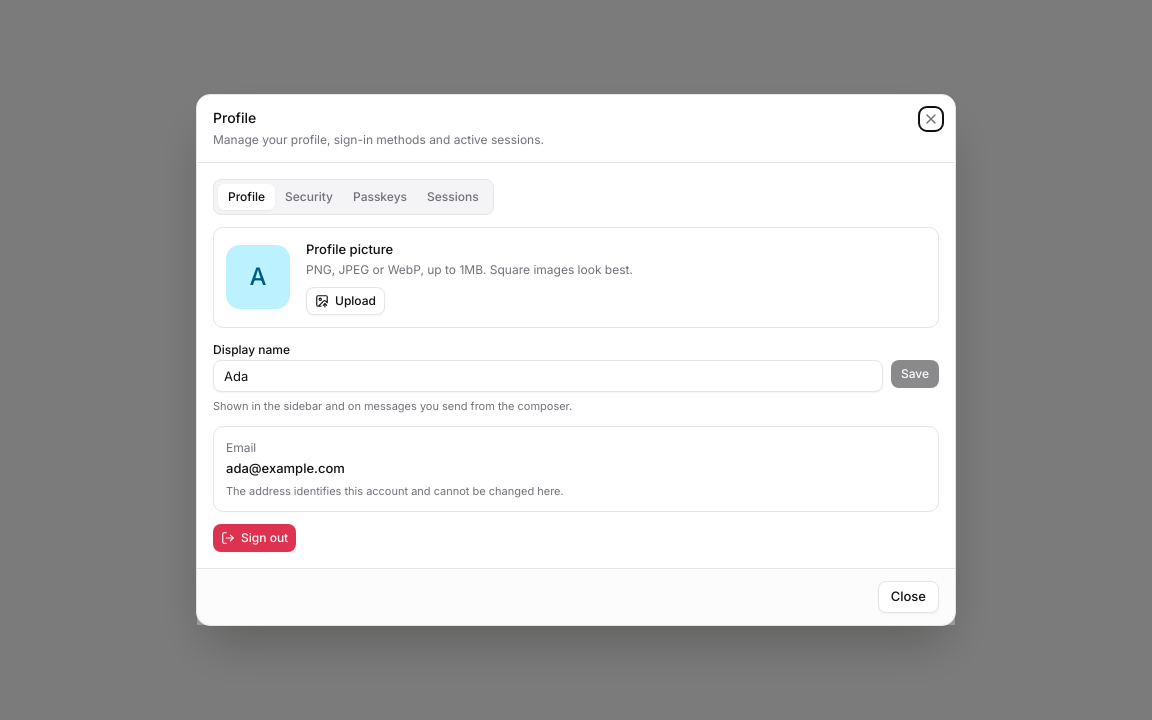
it: ProfileDialog › says so when the list cannot be loaded
Click the tab "Sessions" at (453, 196), box [417,184,489,210]
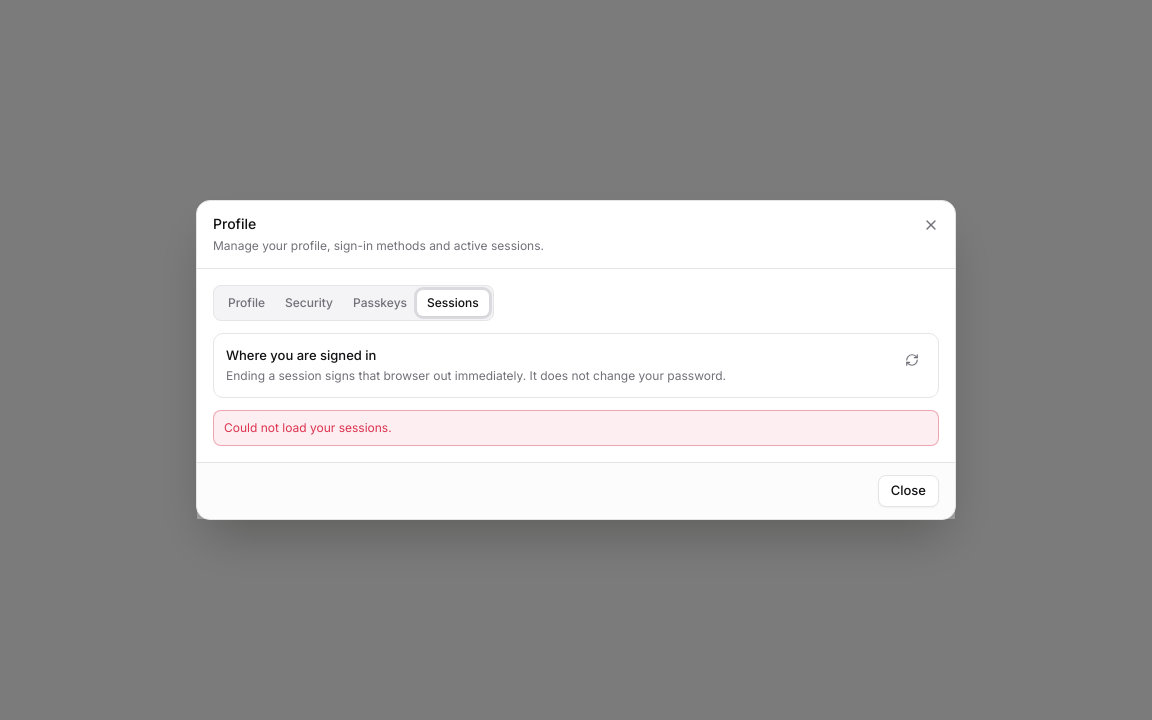
Now the text "Could not load your sessions." is shown, box [213,410,939,446]
